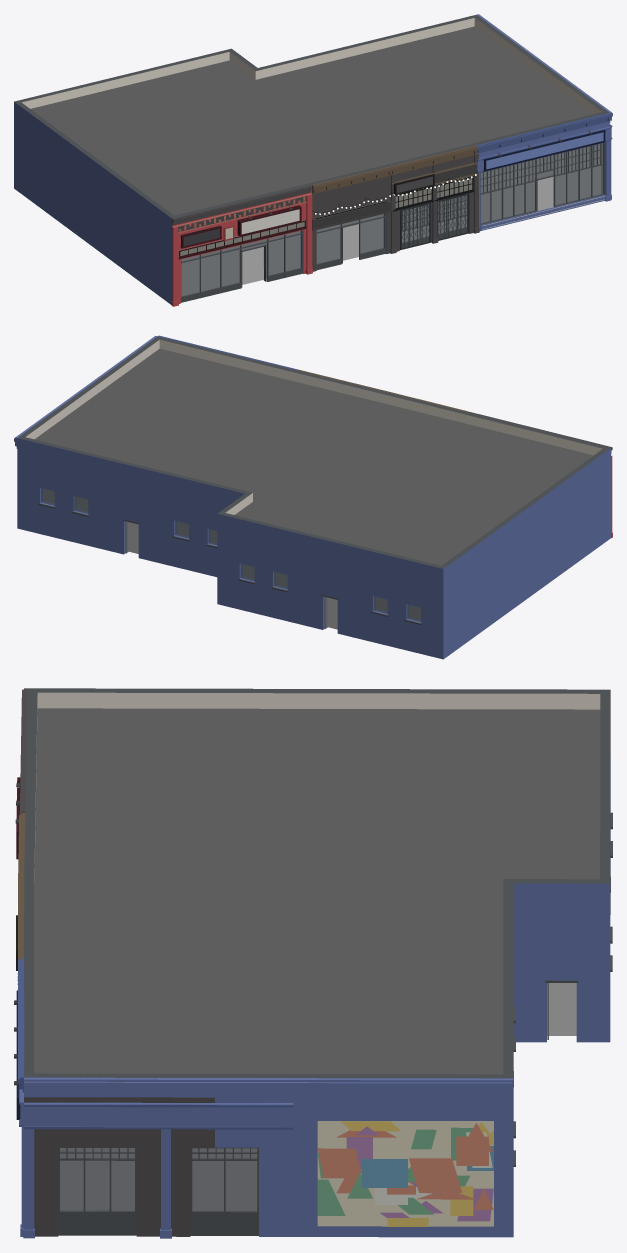
File: exterior.glb
3 views of the same model, one above another, from view 1: azimuth 30°, elevation 25°; view 2: azimuth 150°, elevation 25°; view 3: azimuth 270°, elevation 25° (orthographic). The views are drawn at different scales.
Parts seen in each view (by area): view 1: roof, shell, glazing, shadow-proxy, shopbays-0, shopbays-6, storefront, shopbays6-0, shopbays6-6, shopbays-glass-0, shopbays-glass-6, shopbays-1; view 2: shell, roof, shadow-proxy, glazing, shopbays-6; view 3: roof, shell, shopbays-1, mural, shadow-proxy, glazing, storefront, shopbays-0, shopbays-6.
Part boxes in pixels (<box>): roof: <box>31,26,592,215</box>; shell: <box>14,14,609,304</box>; glazing: <box>181,143,603,296</box>; shadow-proxy: <box>181,144,600,295</box>; shopbays-0: <box>390,113,611,253</box>; shopbays-6: <box>171,166,392,306</box>; storefront: <box>181,142,604,302</box>; shopbays6-0: <box>391,130,605,195</box>; shopbays6-6: <box>180,191,392,248</box>; shopbays-glass-0: <box>395,178,472,207</box>; shopbays-glass-6: <box>180,222,304,255</box>; shopbays-1: <box>477,14,612,199</box>; shell: <box>17,336,610,659</box>; roof: <box>34,348,593,565</box>; shadow-proxy: <box>43,489,420,629</box>; glazing: <box>41,488,420,621</box>; shopbays-6: <box>385,391,612,538</box>; roof: <box>34,708,600,1074</box>; shell: <box>24,688,610,1237</box>; shopbays-1: <box>23,1077,513,1238</box>; mural: <box>317,1121,493,1226</box>; shadow-proxy: <box>60,983,576,1210</box>; glazing: <box>60,1148,257,1211</box>; storefront: <box>58,876,610,1235</box>; shopbays-0: <box>18,882,24,1236</box>; shopbays-6: <box>18,688,27,884</box>.
Size of the model in its own units: 31.18 by 5.87 by 20.06.
